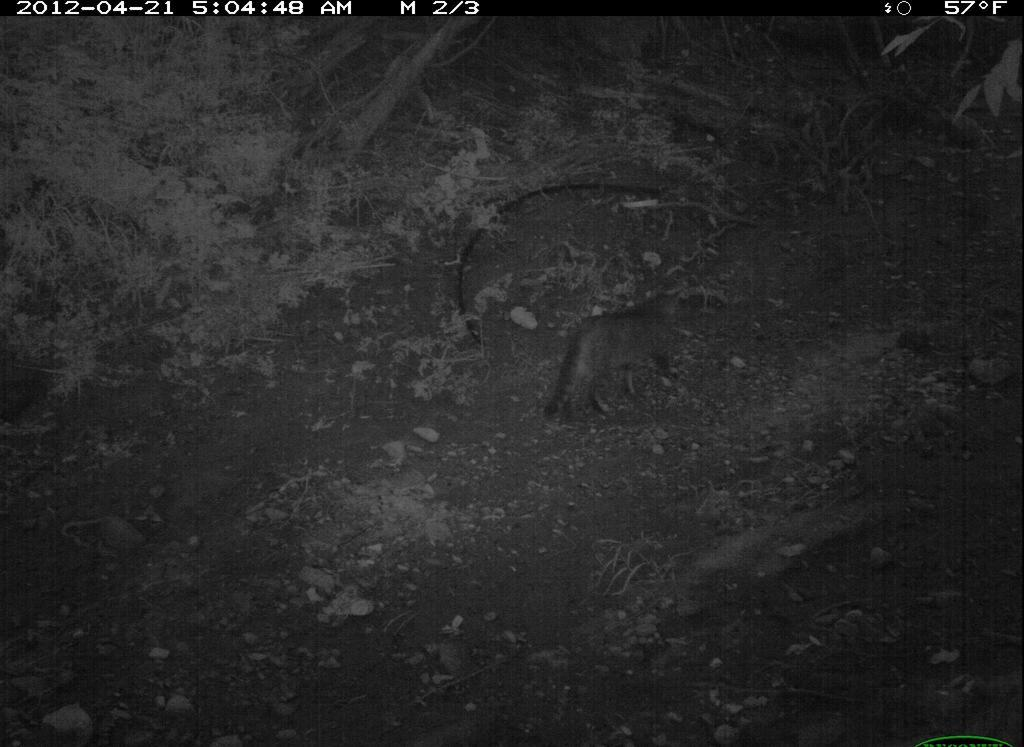cat: (539, 265, 710, 436)
